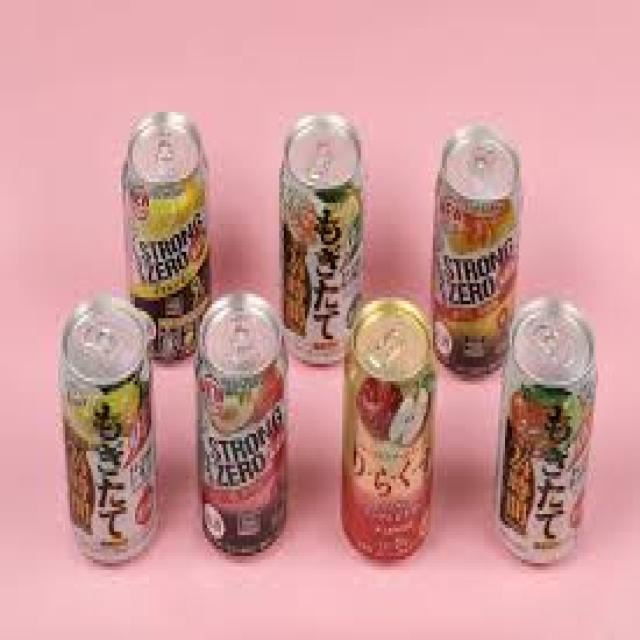Cans: (486, 290, 605, 574), (53, 290, 170, 570), (337, 290, 440, 574), (191, 290, 293, 567), (426, 116, 528, 382), (116, 105, 216, 360), (274, 105, 368, 364)
